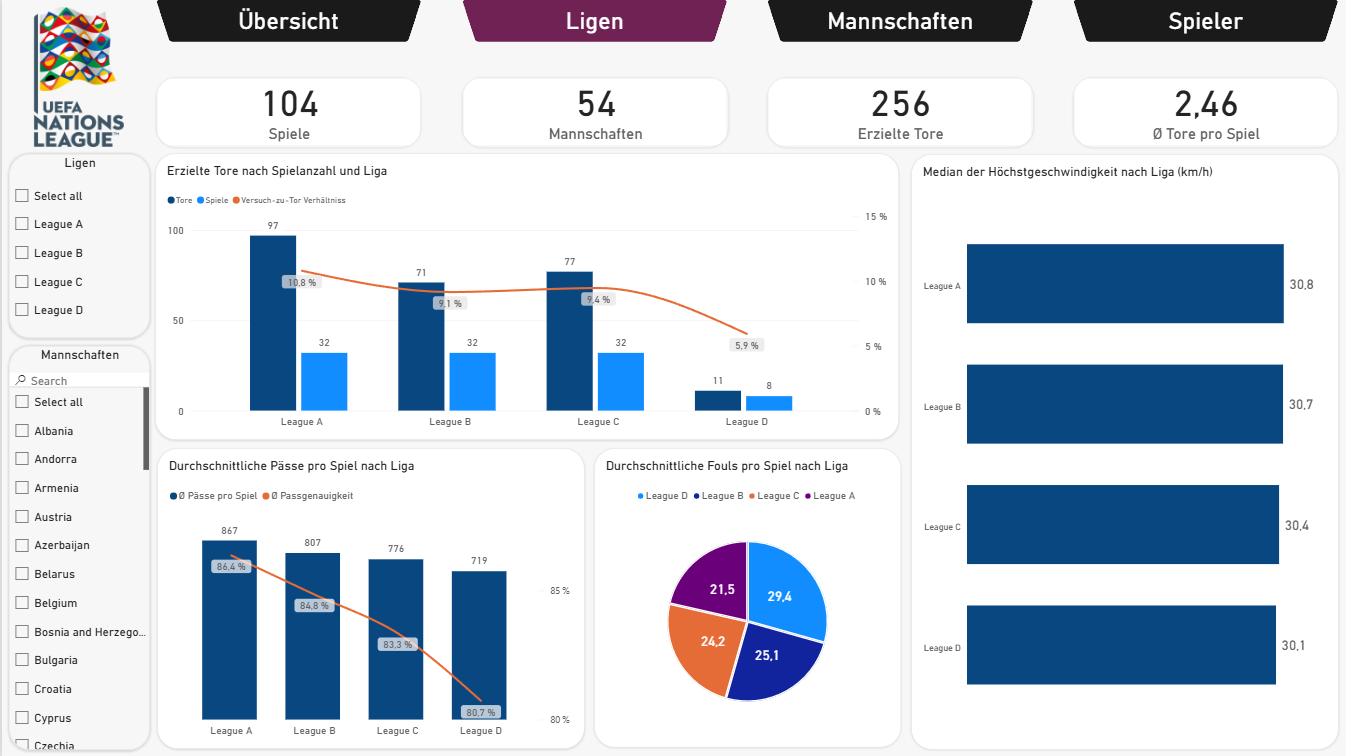

The dashboard page shown, as its layout file describes it:
{"tool":"powerbi","page":{"name":"Ligen","canvas":[1920,1080],"ordinal":1},"visuals":[{"type":"actionButton","box":[220,0,379.3,59.8],"z":0},{"type":"actionButton","box":[1093.3,0,380.8,59.8],"z":1000},{"type":"actionButton","box":[1530,0,379.3,59.8],"z":2000},{"type":"actionButton","box":[656.7,0,379.3,59.8],"z":3000},{"type":"cardVisual","fields":{"Data":["calculations.matches_played"]},"box":[220.3,109.4,379.3,100.7],"z":4000},{"type":"cardVisual","fields":{"Data":["calculations.count_of_teams"]},"box":[656.5,109.4,380.8,100.7],"z":5000},{"type":"cardVisual","fields":{"Data":["calculations.goals_scored"]},"box":[1092.8,109.4,380.8,100.7],"z":6000},{"type":"cardVisual","fields":{"Data":["calculations.avg_goals_per_game"]},"box":[1530.5,109.4,379.3,100.7],"z":7000},{"type":"image","box":[10,10,200,200],"z":8000},{"type":"slicer","title":"Ligen","fields":{"Values":["dim_teams.league_name"]},"box":[9.4,219.7,201,263.4],"z":9000},{"type":"lineClusteredColumnComboChart","title":"Erzielte Tore nach Spielanzahl und Liga","fields":{"Category":["dim_teams.league_name"],"Y":["calculations.goals_scored","calculations.matches_played"],"Y2":["calculations.attempt_to_goal"]},"box":[219.2,219.2,1063.4,410.3],"z":10000},{"type":"slicer","title":"Mannschaften","fields":{"Values":["dim_teams.team_name"]},"box":[9.4,494,201,576.6],"z":12000},{"type":"clusteredBarChart","title":"Median der Höchstgeschwindigkeit nach Liga (km/h)","fields":{"Y":["calculations.median_top_speed"],"Category":["dim_teams.league_name"]},"box":[1298.6,219.3,611,851.2],"z":13000},{"type":"pieChart","title":"Durchschnittliche Fouls pro Spiel nach Liga","fields":{"Category":["dim_teams.league_name"],"Y":["calculations.avg_fouls_per_game"]},"box":[846,640.6,438.7,428.2],"z":14000},{"type":"lineClusteredColumnComboChart","title":"Durchschnittliche Pässe pro Spiel nach Liga","fields":{"Category":["dim_teams.league_name"],"Y":["calculations.passes_per_game"],"Y2":["calculations.avg_pass_accuracy"]},"box":[221.1,640.6,611,430],"z":15000}]}

Visuals, with their boxes in screenshot pixels (x1, y1, x2, y2), scaled from the page's 1920x1080 canvas onto the 1346x756 screenshot:
actionButton: x1=154, y1=0, x2=420, y2=42
actionButton: x1=766, y1=0, x2=1033, y2=42
actionButton: x1=1073, y1=0, x2=1338, y2=42
actionButton: x1=460, y1=0, x2=726, y2=42
cardVisual - calculations.matches_played: x1=154, y1=77, x2=420, y2=147
cardVisual - calculations.count_of_teams: x1=460, y1=77, x2=727, y2=147
cardVisual - calculations.goals_scored: x1=766, y1=77, x2=1033, y2=147
cardVisual - calculations.avg_goals_per_game: x1=1073, y1=77, x2=1339, y2=147
image: x1=7, y1=7, x2=147, y2=147
"Ligen" slicer: x1=7, y1=154, x2=147, y2=338
"Erzielte Tore nach Spielanzahl und Liga" lineClusteredColumnComboChart: x1=154, y1=153, x2=899, y2=441
"Mannschaften" slicer: x1=7, y1=346, x2=147, y2=749
"Median der Höchstgeschwindigkeit nach Liga (km/h)" clusteredBarChart: x1=910, y1=154, x2=1339, y2=749
"Durchschnittliche Fouls pro Spiel nach Liga" pieChart: x1=593, y1=448, x2=901, y2=748
"Durchschnittliche Pässe pro Spiel nach Liga" lineClusteredColumnComboChart: x1=155, y1=448, x2=583, y2=749
